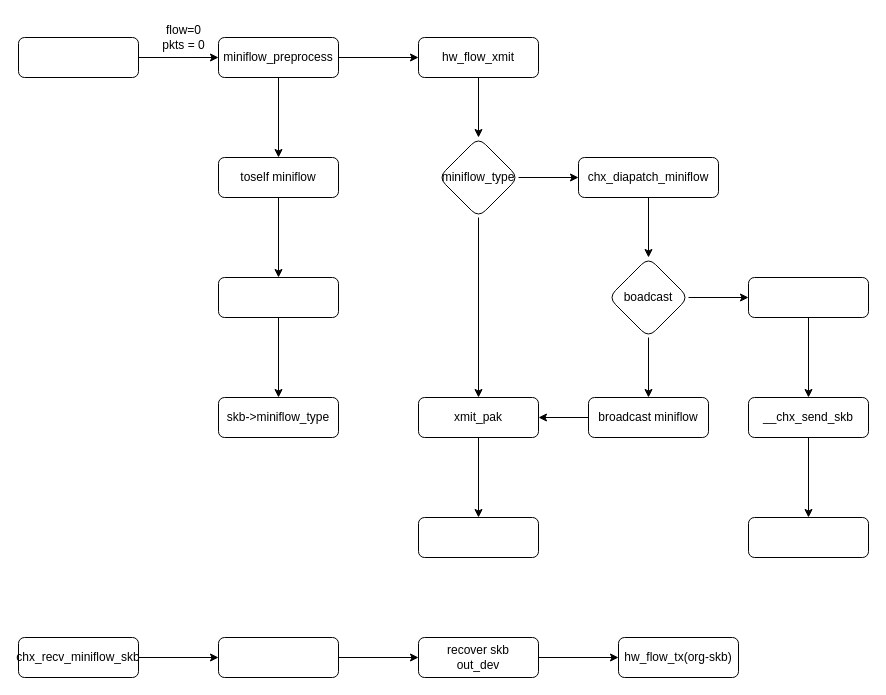
The diagram is 886 pixels wide and 695 high, and some of its shapes have lost their labels. Each missing label, with the centre of its shape:
chx_miniflow_recv: the point at 278,657
chx_skb_l2_dispatch: the point at 808,297
flow_proc: the point at 78,57
miniflow boardcast/unicast: the point at 278,297
skb_dev_send: the point at 808,537
xmit: the point at 478,537
